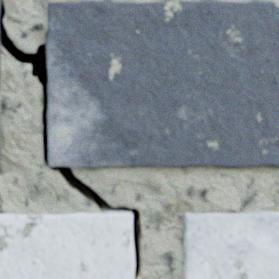brick: (46, 1, 278, 167), (0, 212, 133, 278), (183, 211, 278, 278), (0, 106, 1, 158), (0, 46, 1, 88)
crack: (0, 0, 142, 277)
